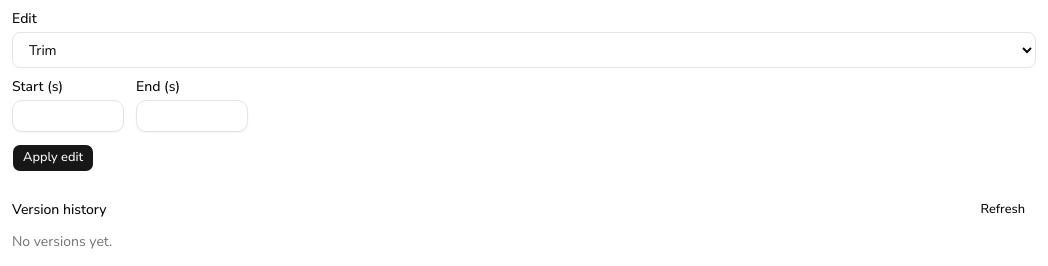
Scenario: VideoEditor › submits a trim edit with the typed payload and shows it queued
In the number field labelled "Start (s)": (68,116) [12,100,124,132], type "2"
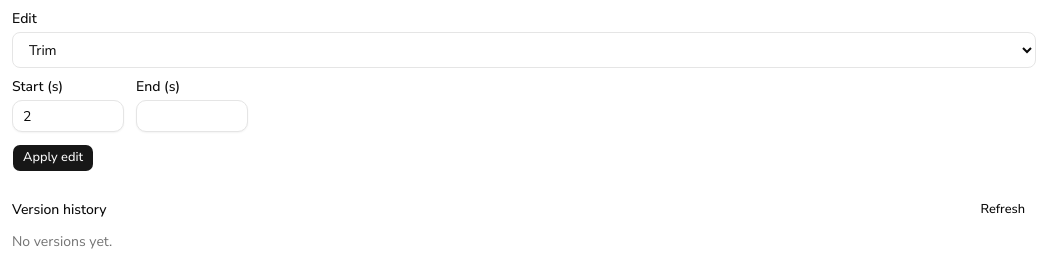
In the number field labelled "End (s)": (192,116) [136,100,248,132], type "8"
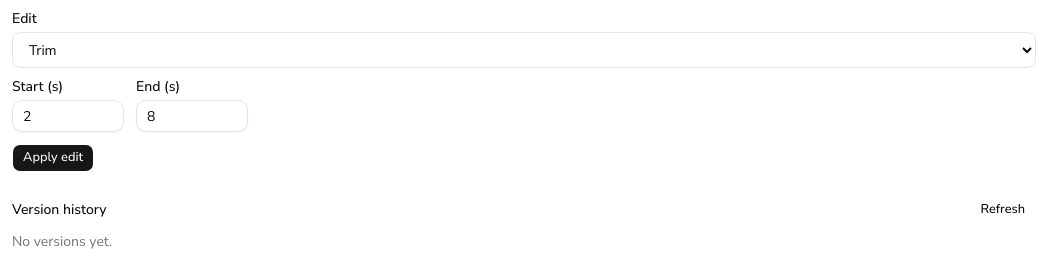
Click the button "Apply edit": (53,158) [12,144,94,172]
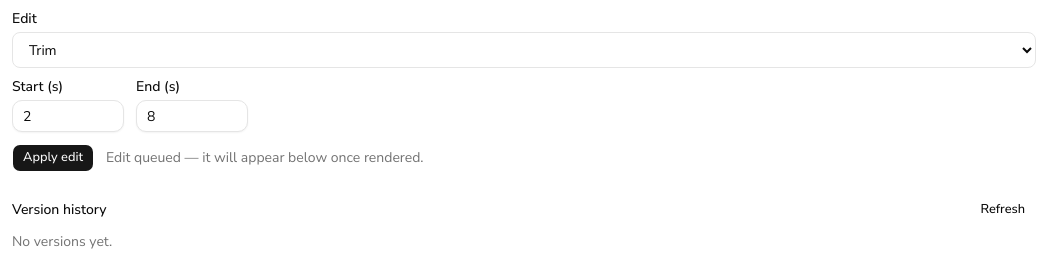
Now the message shows "queued", box [106,148,424,167]
